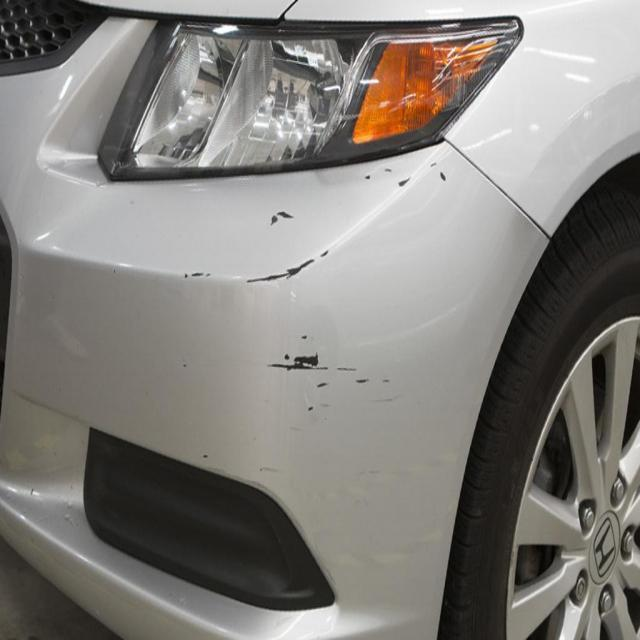scratch: (248, 148, 458, 440)
